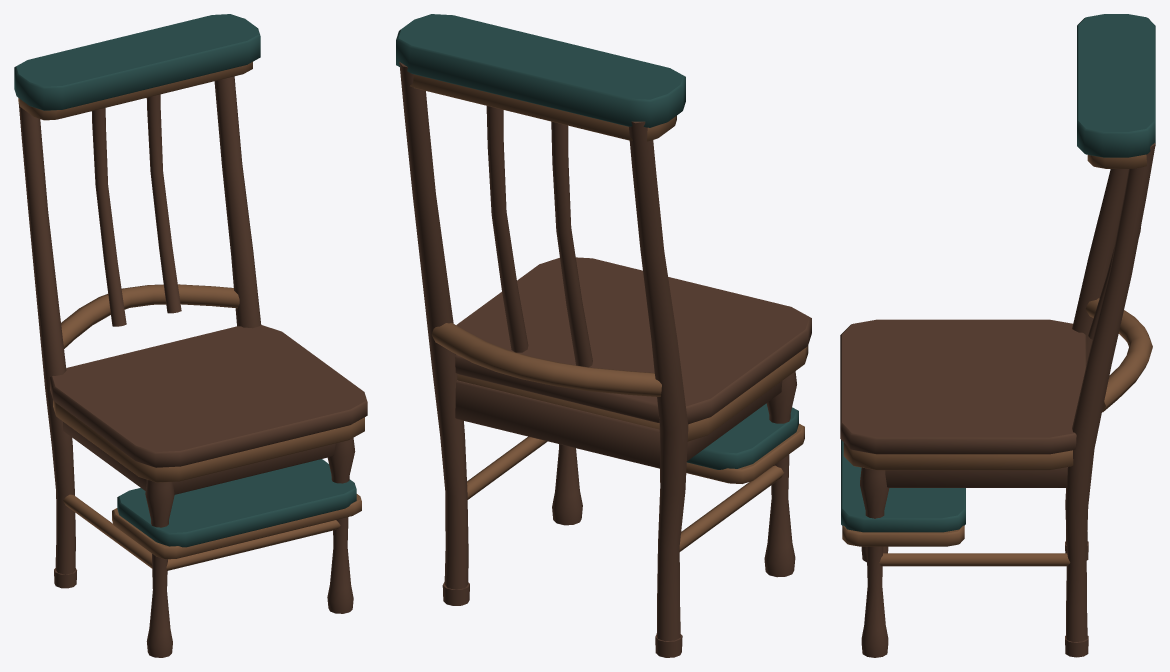
The model's file is rpg-mansion-prayer-01.glb.
The picture shows the model from 3 angles, left to right: view 1: azimuth 30°, elevation 25°; view 2: azimuth 150°, elevation 25°; view 3: azimuth 270°, elevation 25°; orthographic projection. The views are drawn at different scales.
Parts seen in each view (by area): view 1: rpg-mansion-prayer-01; view 2: rpg-mansion-prayer-01; view 3: rpg-mansion-prayer-01.
Part boxes in pixels (left/top/right/bottom): rpg-mansion-prayer-01: left=14, top=14, right=367, bottom=657; rpg-mansion-prayer-01: left=396, top=14, right=811, bottom=657; rpg-mansion-prayer-01: left=840, top=14, right=1155, bottom=657.
Bounding box in the file's own units: 0.52 × 1.08 × 0.58.
